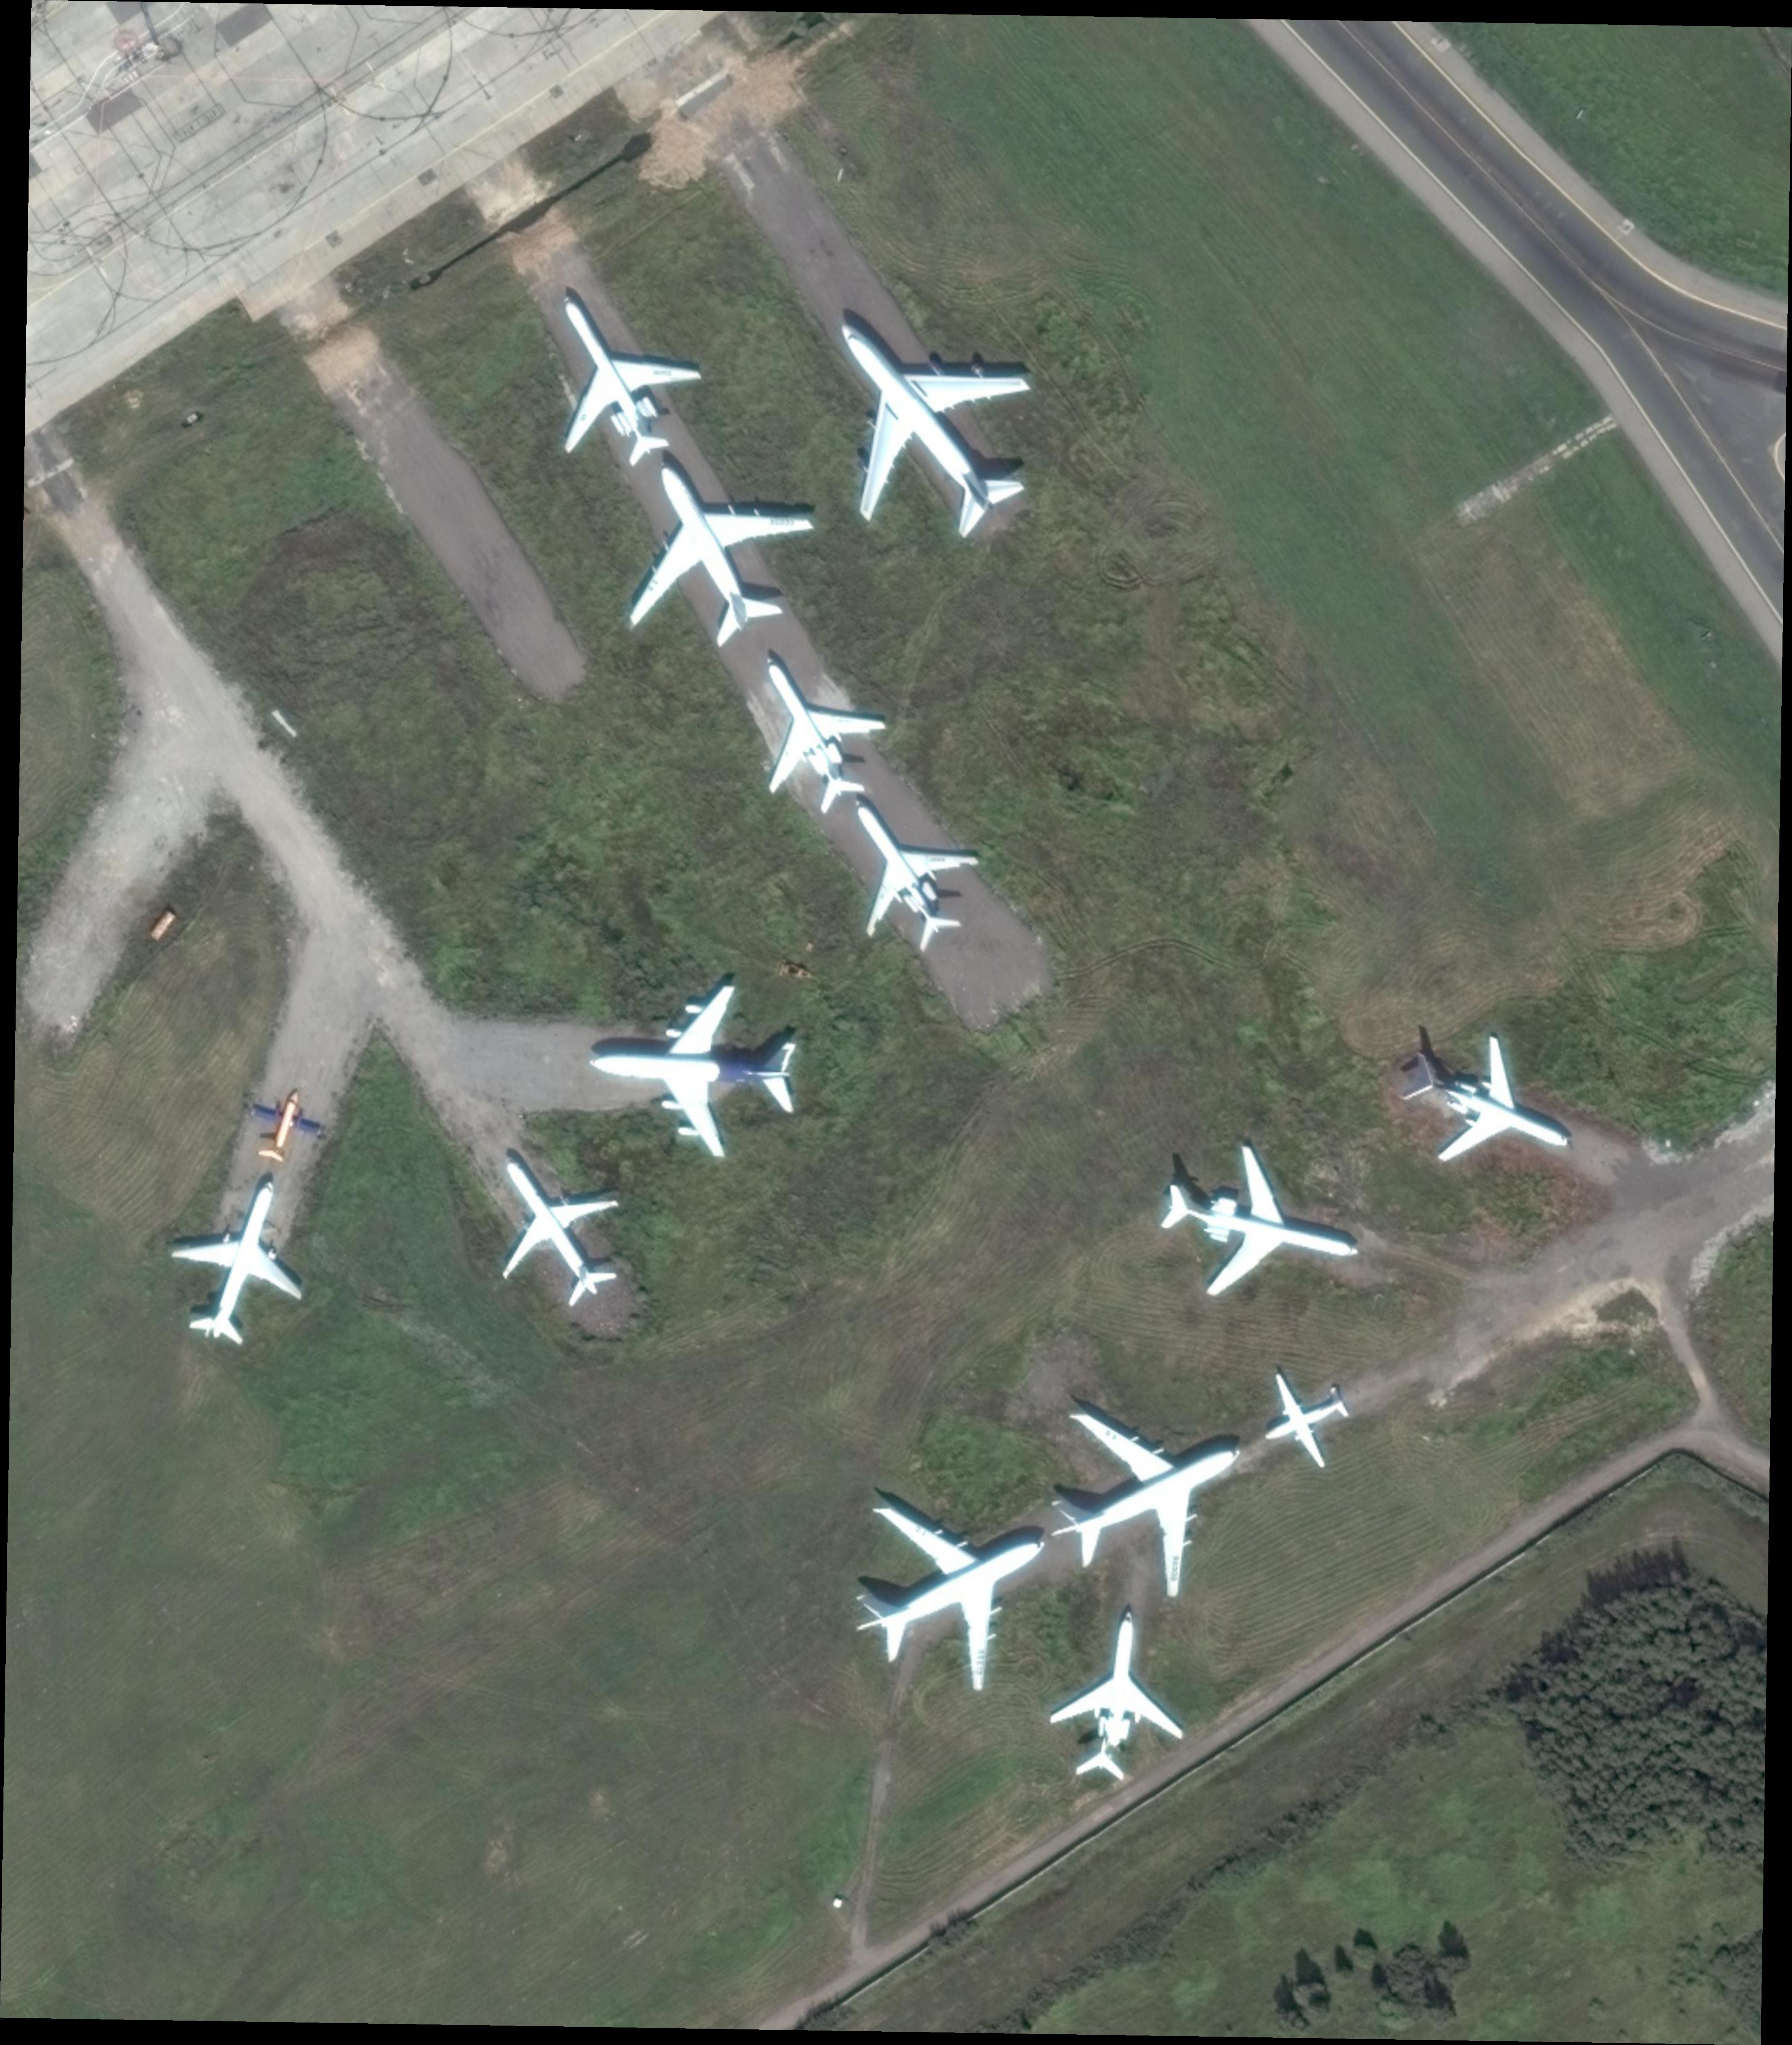plane: (761, 256, 1087, 577), (806, 1437, 1096, 1733), (1008, 1347, 1297, 1634), (577, 425, 847, 676), (499, 254, 727, 486), (1143, 1123, 1383, 1331), (1365, 1000, 1603, 1204), (583, 968, 809, 1168), (707, 622, 913, 830), (806, 763, 1008, 971), (458, 1122, 657, 1328), (150, 1158, 336, 1365), (1041, 1595, 1209, 1795), (1240, 1349, 1368, 1484), (234, 1079, 338, 1174)
